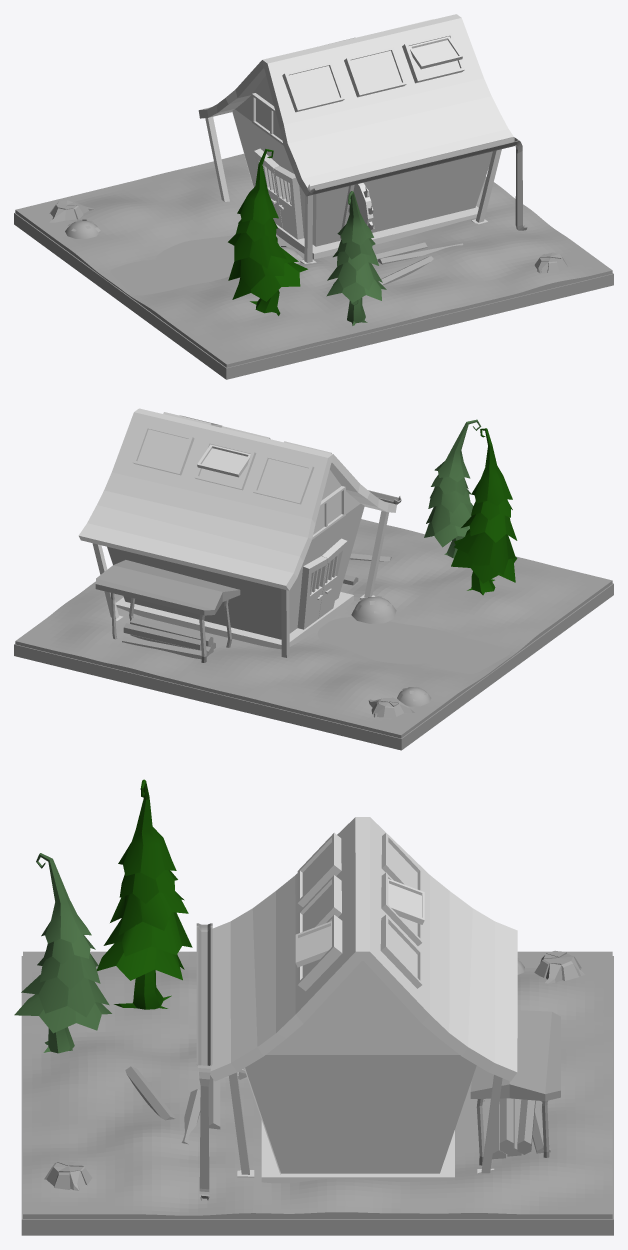
The model's file is scierie_v1.fbx.
3 renders of one model, top to bottom at view 1: azimuth 30°, elevation 25°; view 2: azimuth 150°, elevation 25°; view 3: azimuth 270°, elevation 25°, orthographic. The views are drawn at different scales.
Parts seen in each view (by area): view 1: scierie, neige1, sol6, sapin14, chemin, sapin15, Rail_rondins, souche, Buisson16, souche_2; view 2: scierie, neige1, sol6, chemin, sapin14, Abris_bois1, sapin15, Buisson15, Rondins7, souche, Rondins6, Rondins8 (+1 smaller); view 3: scierie, neige1, sol6, sapin14, sapin15, Abris_bois1, Rail_rondins, souche, souche_2, Rondins3, Rondins7, Rondins8 (+2 smaller).
Boxes of the visible parts, x1=… form: scierie: x1=198, y1=14, x2=515, y2=263; neige1: x1=15, y1=153, x2=612, y2=367; sol6: x1=14, y1=213, x2=613, y2=379; sapin14: x1=228, y1=149, x2=307, y2=315; chemin: x1=110, y1=235, x2=290, y2=295; sapin15: x1=326, y1=191, x2=386, y2=325; Rail_rondins: x1=307, y1=137, x2=527, y2=230; souche: x1=49, y1=200, x2=94, y2=222; Buisson16: x1=65, y1=219, x2=100, y2=238; souche_2: x1=534, y1=252, x2=567, y2=273; scierie: x1=78, y1=408, x2=396, y2=657; neige1: x1=15, y1=519, x2=612, y2=738; sol6: x1=14, y1=583, x2=613, y2=750; chemin: x1=317, y1=617, x2=509, y2=673; sapin14: x1=451, y1=428, x2=517, y2=595; Abris_bois1: x1=95, y1=560, x2=240, y2=662; sapin15: x1=424, y1=419, x2=481, y2=558; Buisson15: x1=351, y1=596, x2=396, y2=623; Rondins7: x1=123, y1=623, x2=201, y2=650; souche: x1=368, y1=697, x2=414, y2=717; Rondins6: x1=122, y1=636, x2=208, y2=659; Rondins8: x1=130, y1=618, x2=213, y2=647; scierie: x1=210, y1=817, x2=517, y2=1183; neige1: x1=23, y1=951, x2=612, y2=1218; sol6: x1=21, y1=956, x2=613, y2=1235; sapin14: x1=97, y1=779, x2=192, y2=1009; sapin15: x1=14, y1=853, x2=111, y2=1053; Abris_bois1: x1=470, y1=1010, x2=560, y2=1165; Rail_rondins: x1=196, y1=923, x2=212, y2=1200; souche: x1=534, y1=950, x2=584, y2=983; souche_2: x1=44, y1=1161, x2=92, y2=1190; Rondins3: x1=125, y1=1066, x2=175, y2=1120; Rondins7: x1=517, y1=1099, x2=535, y2=1154; Rondins8: x1=499, y1=1098, x2=513, y2=1153.
Bounding box in the file's own units: 1412 × 660 × 1358.
